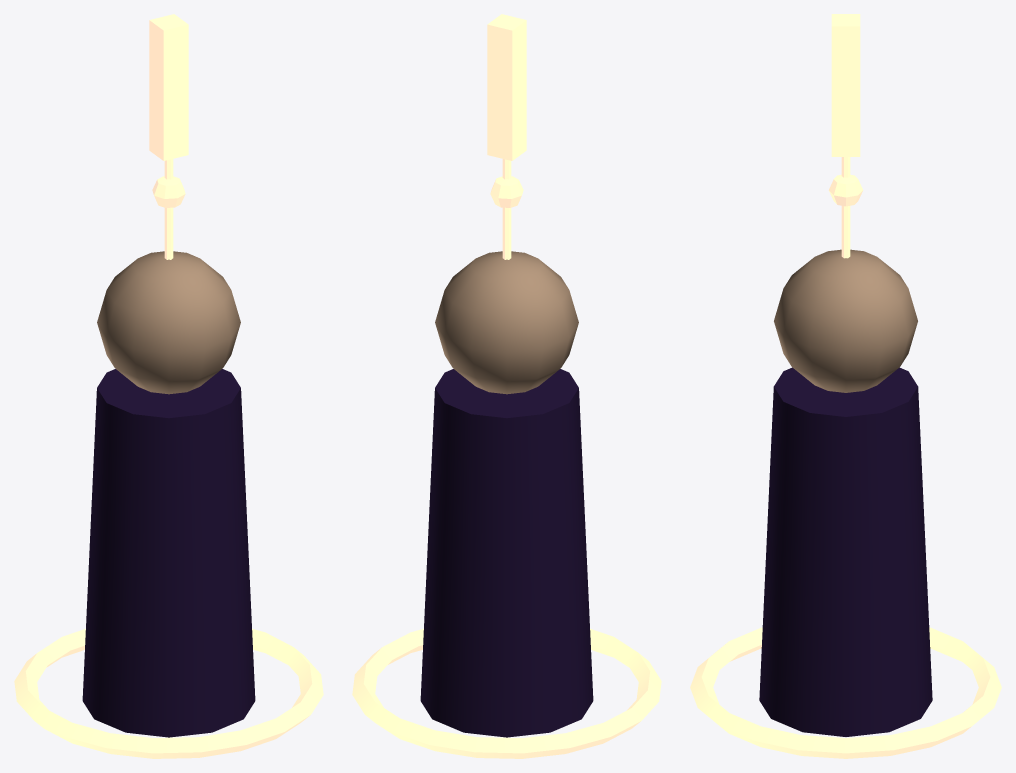
The model's file is npc_marker.glb.
The picture shows the model from 3 angles, left to right: view 1: azimuth 30°, elevation 25°; view 2: azimuth 150°, elevation 25°; view 3: azimuth 270°, elevation 25°; orthographic projection.
Parts seen in each view (by area): view 1: npc_marker; view 2: npc_marker; view 3: npc_marker.
Part boxes in pixels (x1,y1,x2,y2): npc_marker: [14, 14, 323, 758]; npc_marker: [352, 14, 661, 758]; npc_marker: [690, 14, 1001, 758].
Size of the model in its own units: 1.08 by 2.6 by 1.08.
